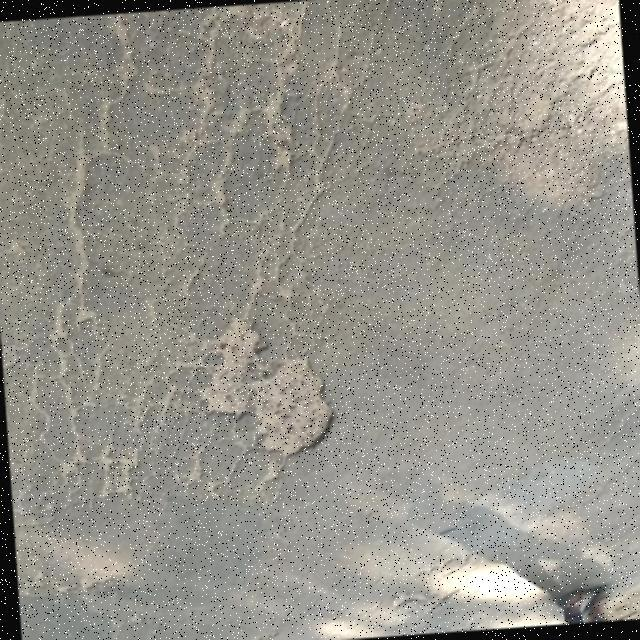Pothole: (197, 314, 332, 456)
